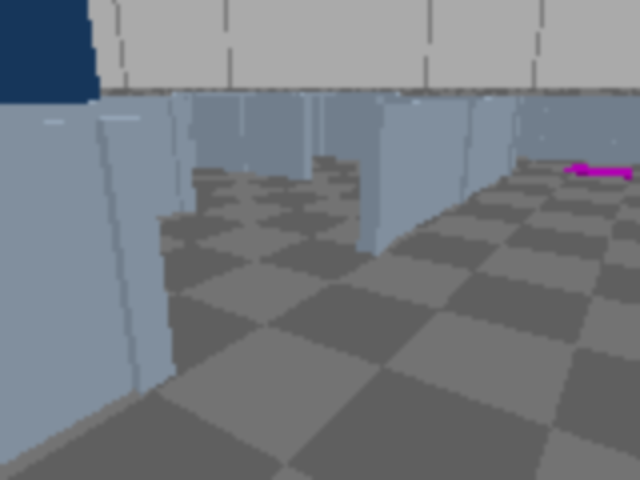goal_zone: (563, 165, 632, 179)
